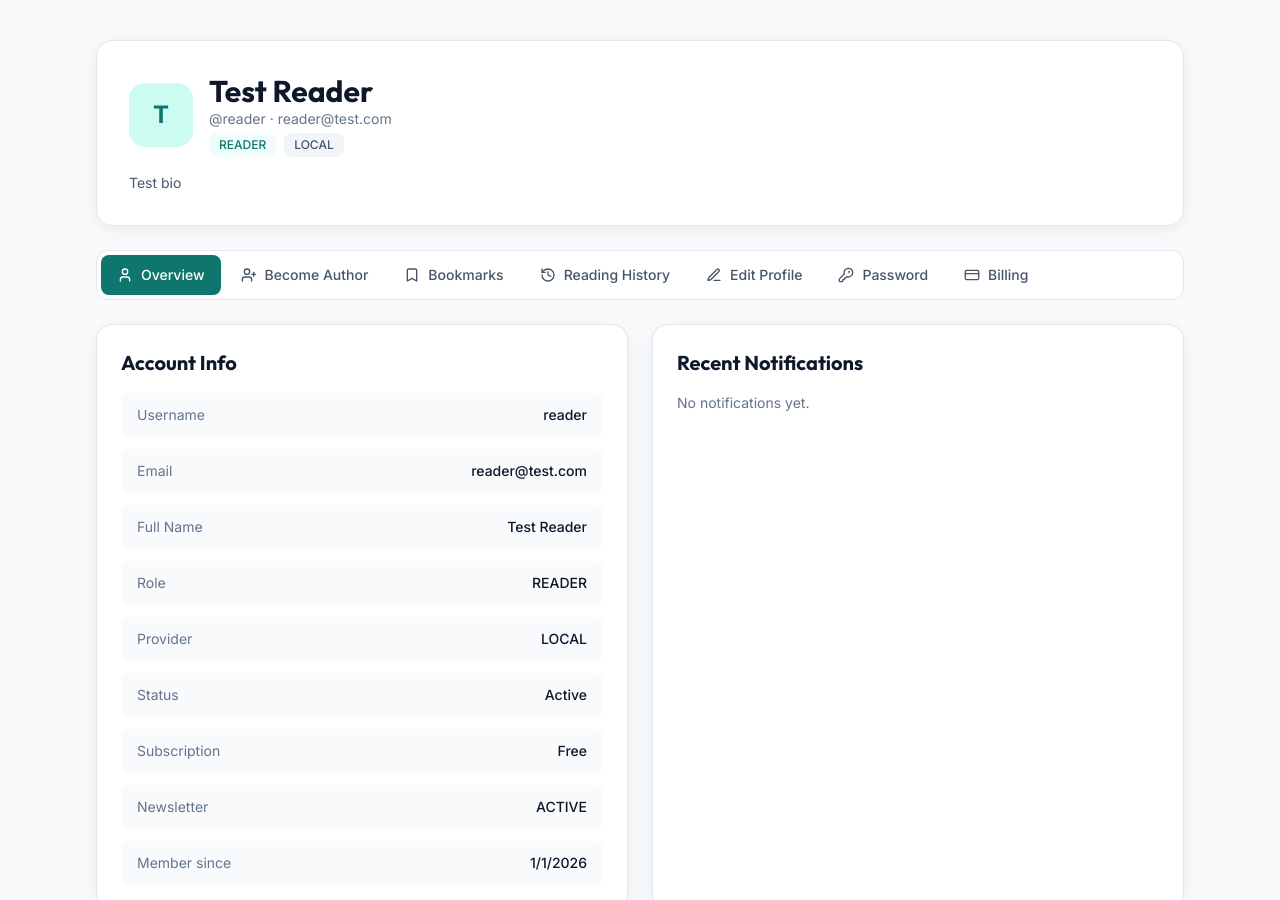
Test case: ProfilePage › shows save error
This screenshot has width=1280, height=900.
What coordinates should you click on to do the following:
click the button "Edit Profile"
I would click on:
 (754, 275)
Its box is [690,255,818,295].
(page scrolled)
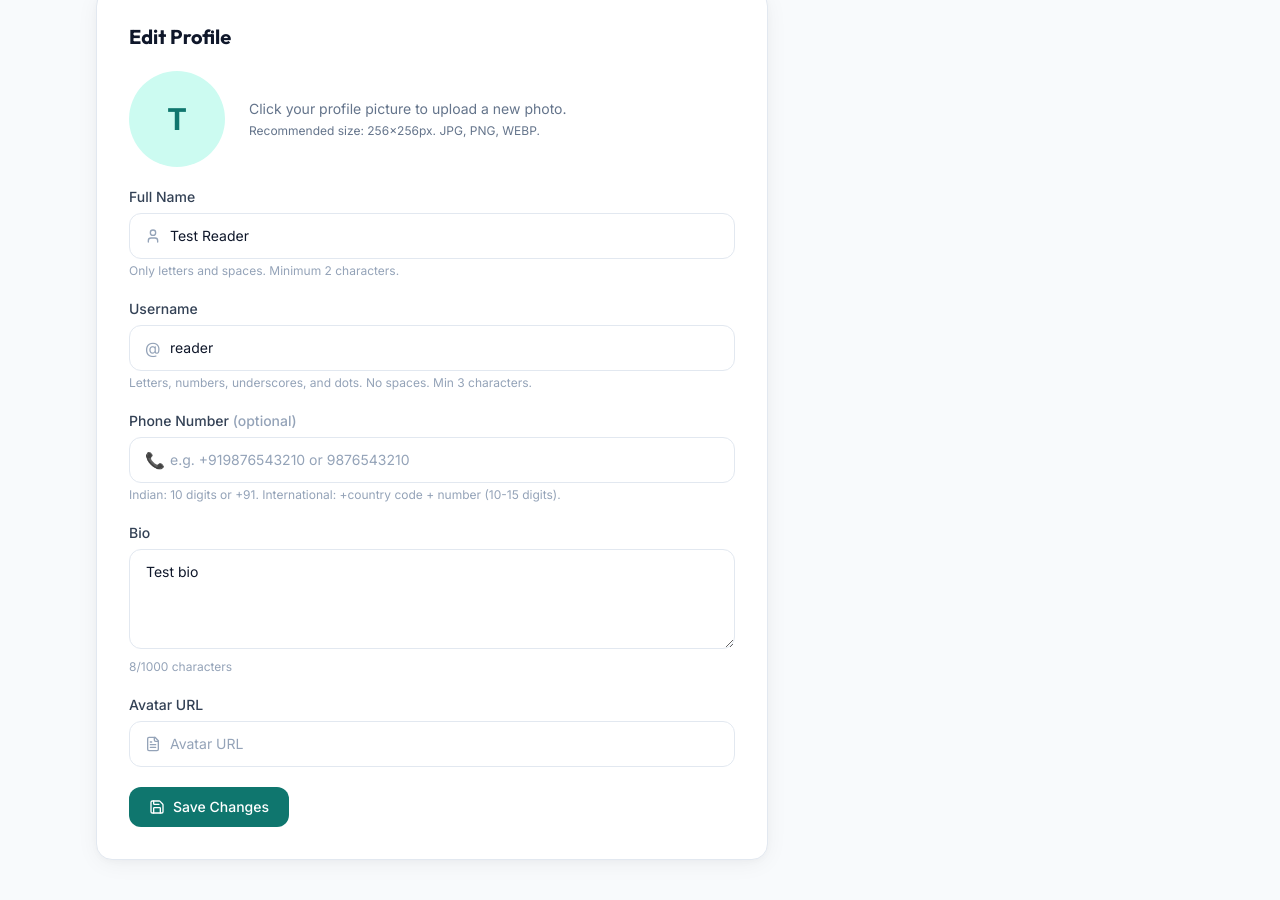
Check: the field with placeholder "Full name" below "Full Name" is shown, box [129,213,735,259]
What coordinates should you click on to do the following:
click the button "Save Changes"
I would click on:
 (209, 807)
Its box is [129,787,289,827].
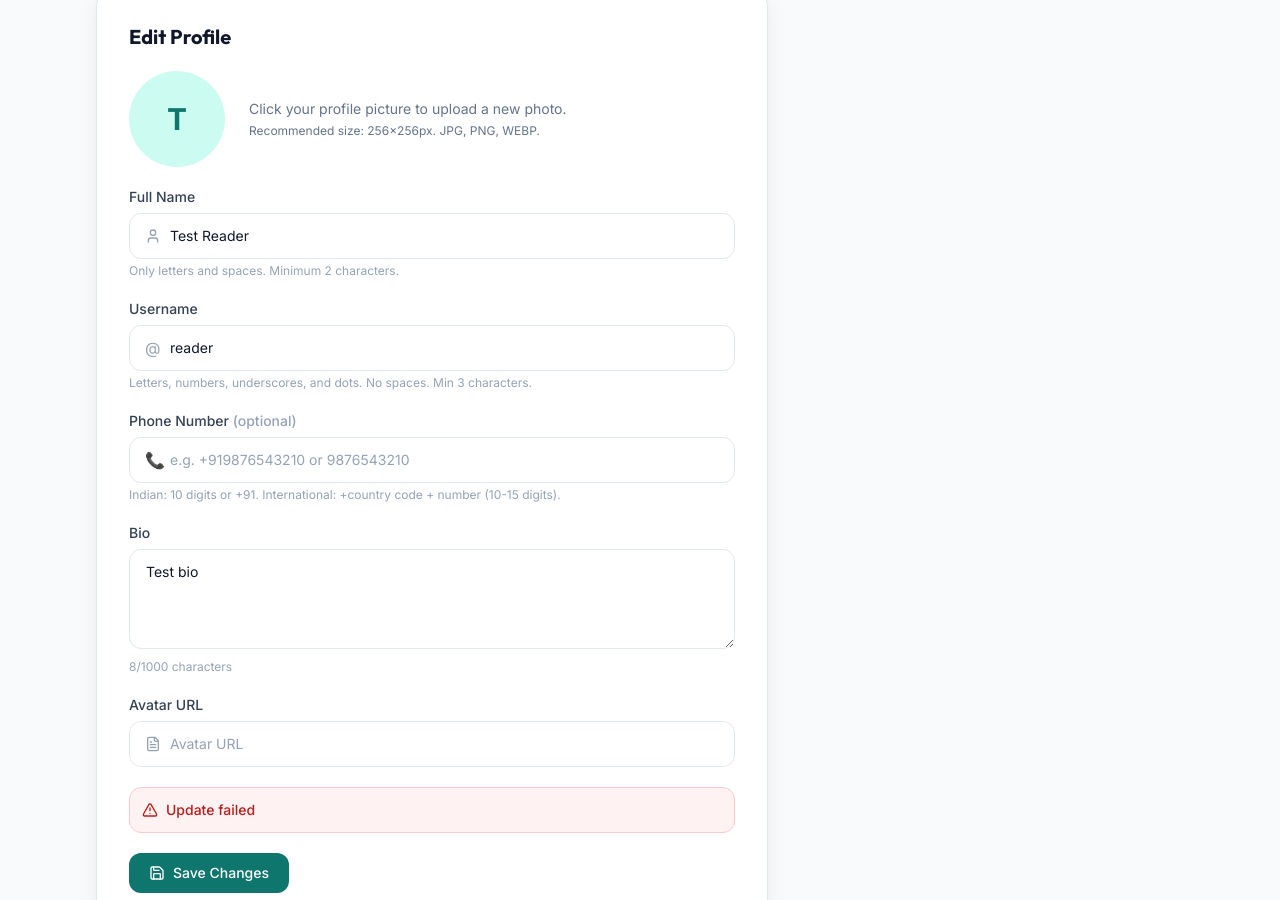
Check: the text "Update failed" is shown, box [129,787,735,833]
